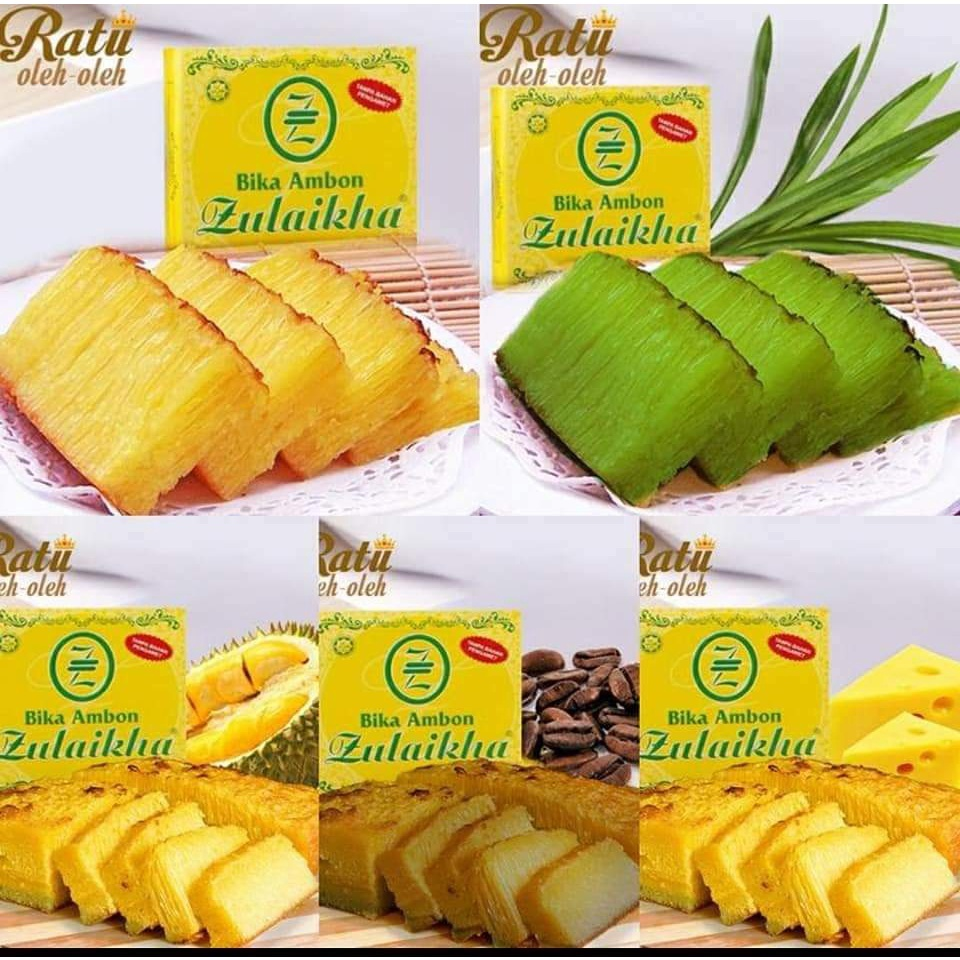bika_ambon: (1, 237, 267, 509), (494, 244, 759, 512), (416, 800, 625, 940), (95, 806, 291, 943), (756, 802, 937, 948), (515, 816, 637, 953), (828, 824, 960, 947), (197, 825, 316, 946)
